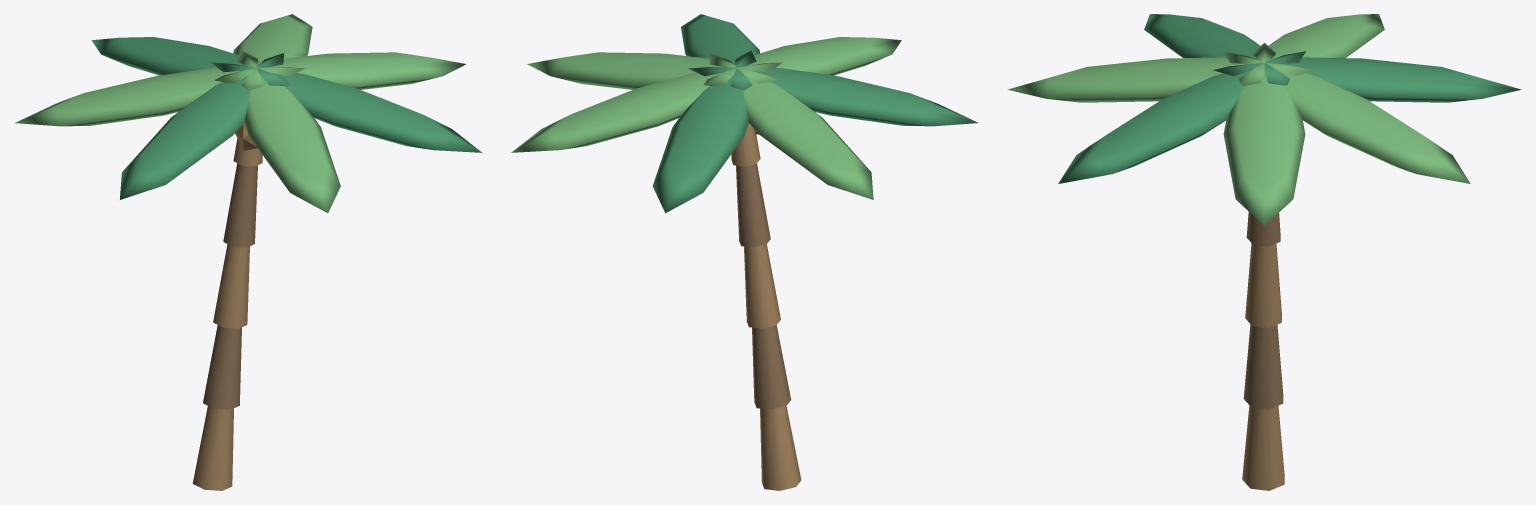
The model's file is ocean-scenery-31.glb.
The picture shows the model from 3 angles, left to right: view 1: azimuth 30°, elevation 25°; view 2: azimuth 150°, elevation 25°; view 3: azimuth 270°, elevation 25°; orthographic projection. The views are drawn at different scales.
Parts seen in each view (by area): view 1: Pearlrest island palm; view 2: Pearlrest island palm; view 3: Pearlrest island palm.
Part boxes in pixels (x1=…): Pearlrest island palm: x1=15, y1=14, x2=481, y2=490; Pearlrest island palm: x1=511, y1=14, x2=977, y2=490; Pearlrest island palm: x1=1007, y1=14, x2=1521, y2=490.
Bounding box in the file's own units: 4.05 × 3.94 × 4.16.
